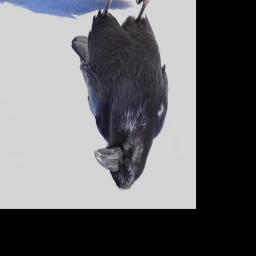Crow: (70, 0, 169, 193)
